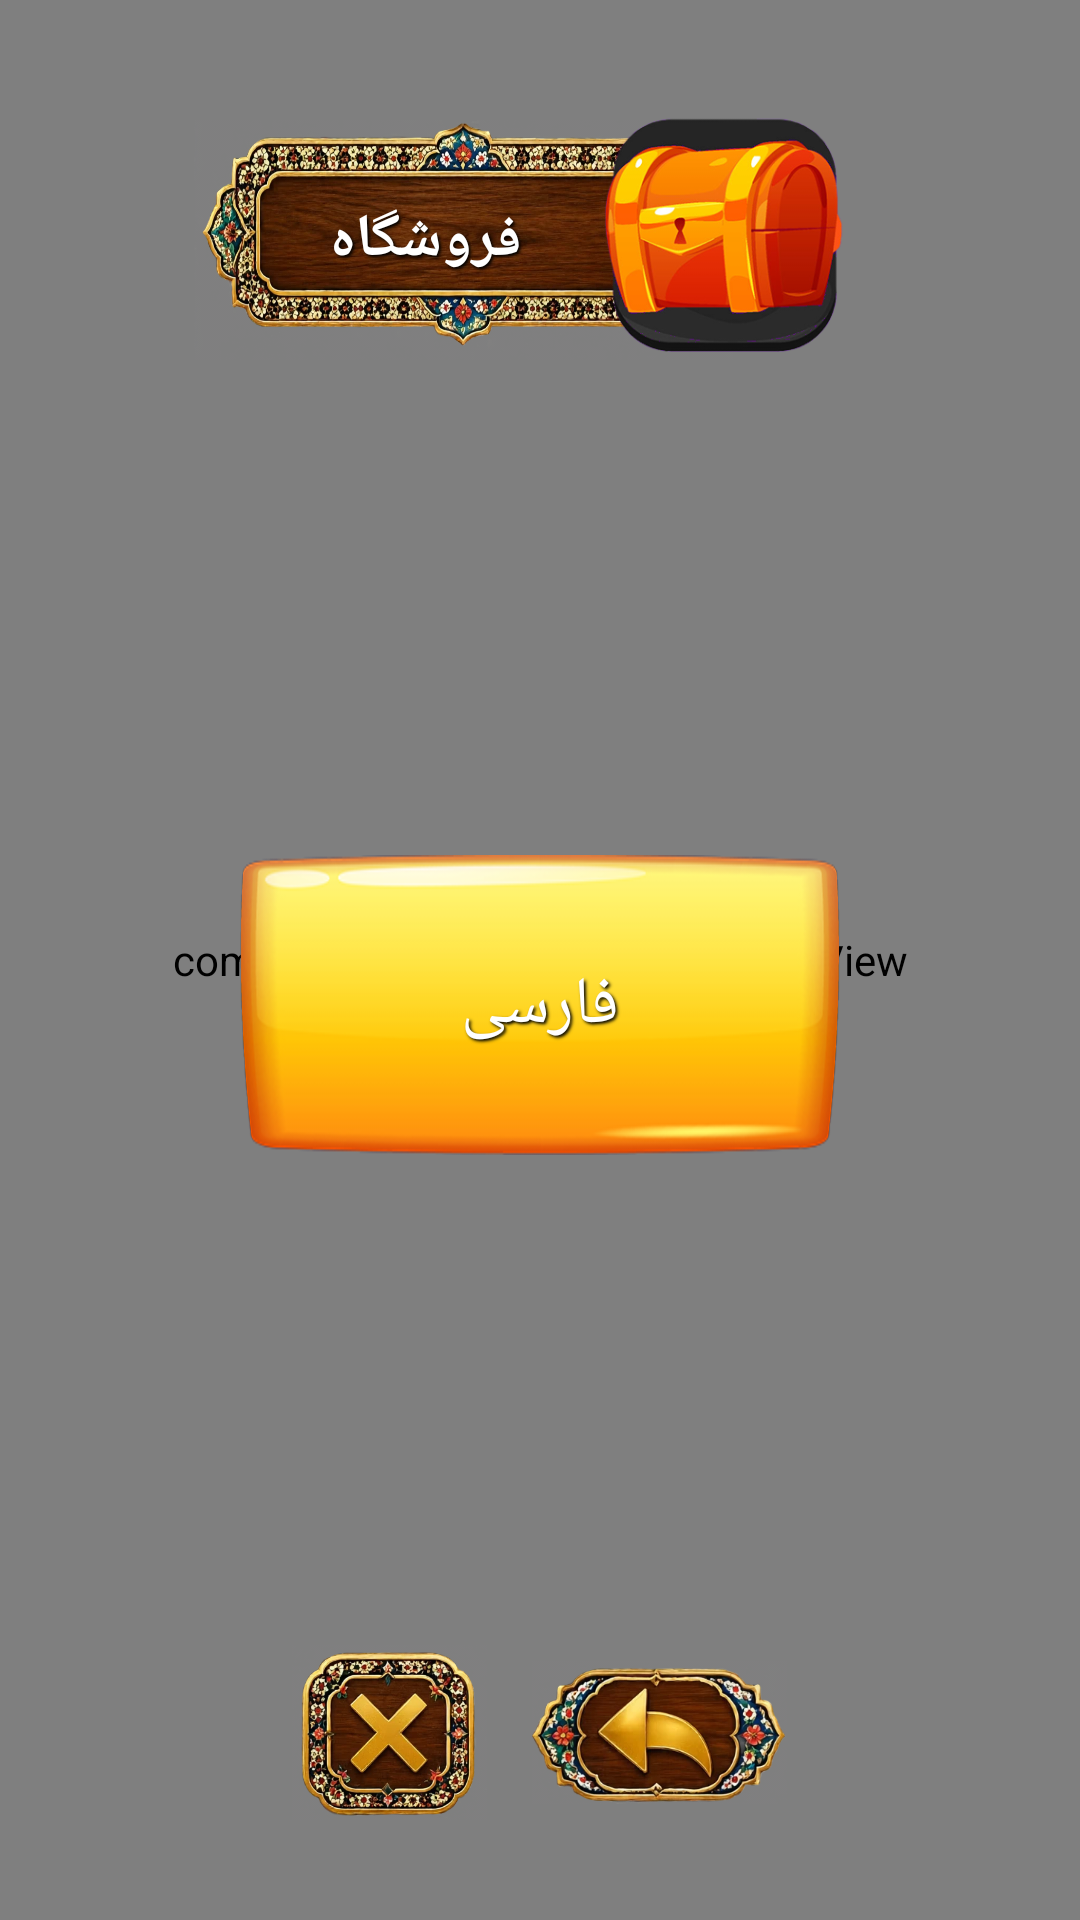

Point at icon controls on the screen. Image size 1080x1920, points as (x,y).
back: (658,1735)
close: (388,1734)
sandogh: (713,235)
